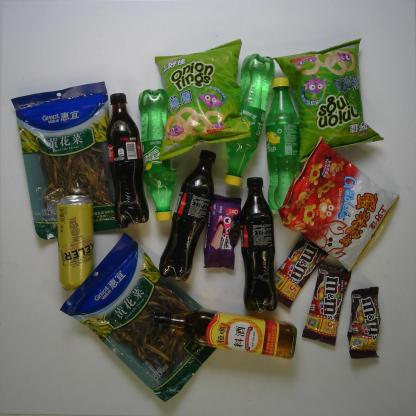Alcohol: (56, 195, 95, 292)
Chocolate: (302, 263, 352, 347), (274, 234, 329, 308), (347, 286, 381, 360)
Dessert: (203, 194, 242, 270)
Dried Food: (58, 232, 218, 404), (10, 81, 130, 241)
Drink: (158, 149, 216, 283), (225, 53, 276, 187), (106, 93, 150, 227), (138, 89, 178, 222), (240, 176, 278, 313), (265, 76, 301, 210)
Puffed Food: (277, 135, 400, 272), (272, 37, 385, 165), (154, 38, 252, 162)
Seasoner: (150, 308, 297, 359)
